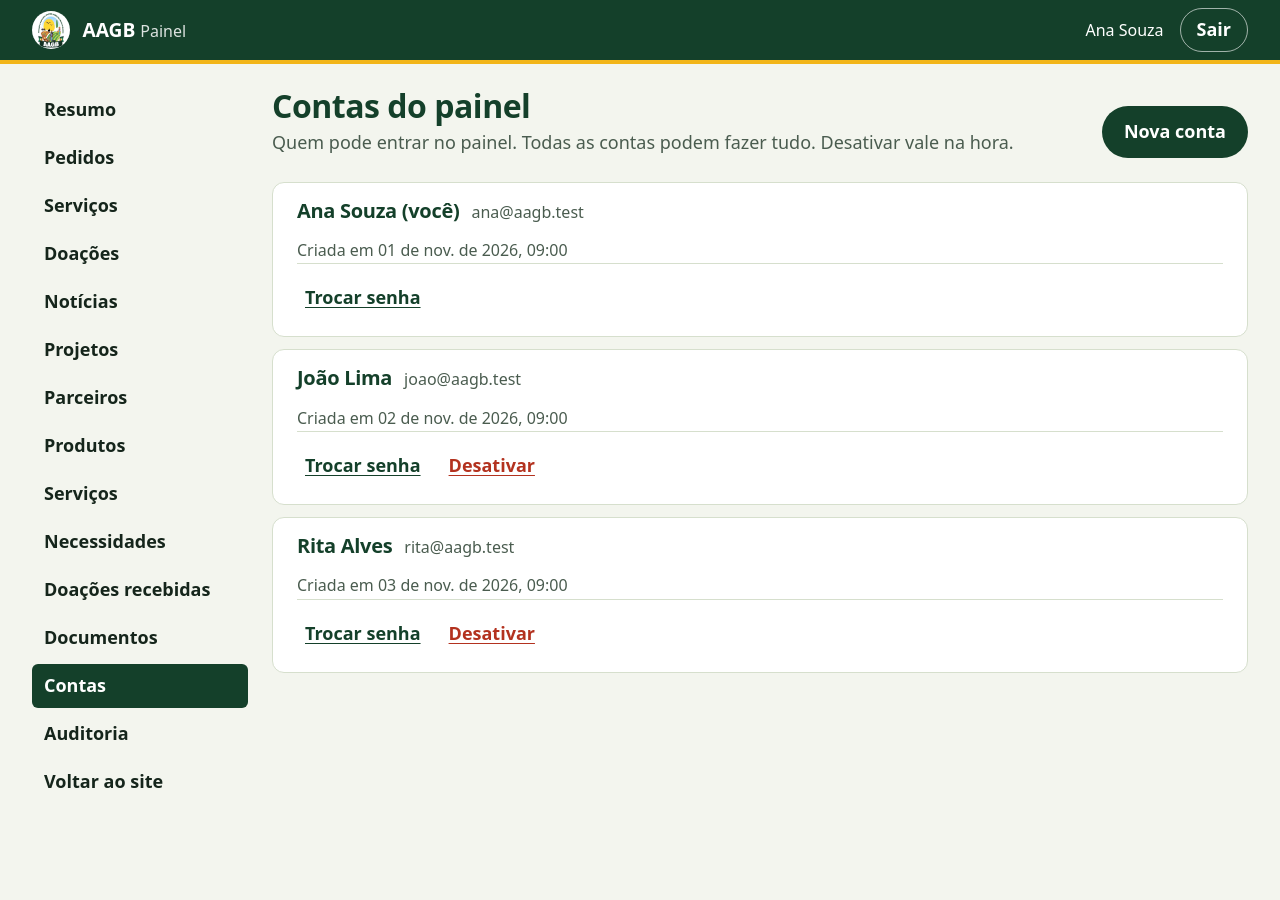
contas: confirmação de senha › depois de confirmar, a ação seguinte não pede a senha de novo
The image size is (1280, 900).
Click the button named "Desativar João Lima" at [492, 466], box [441, 444, 543, 488]
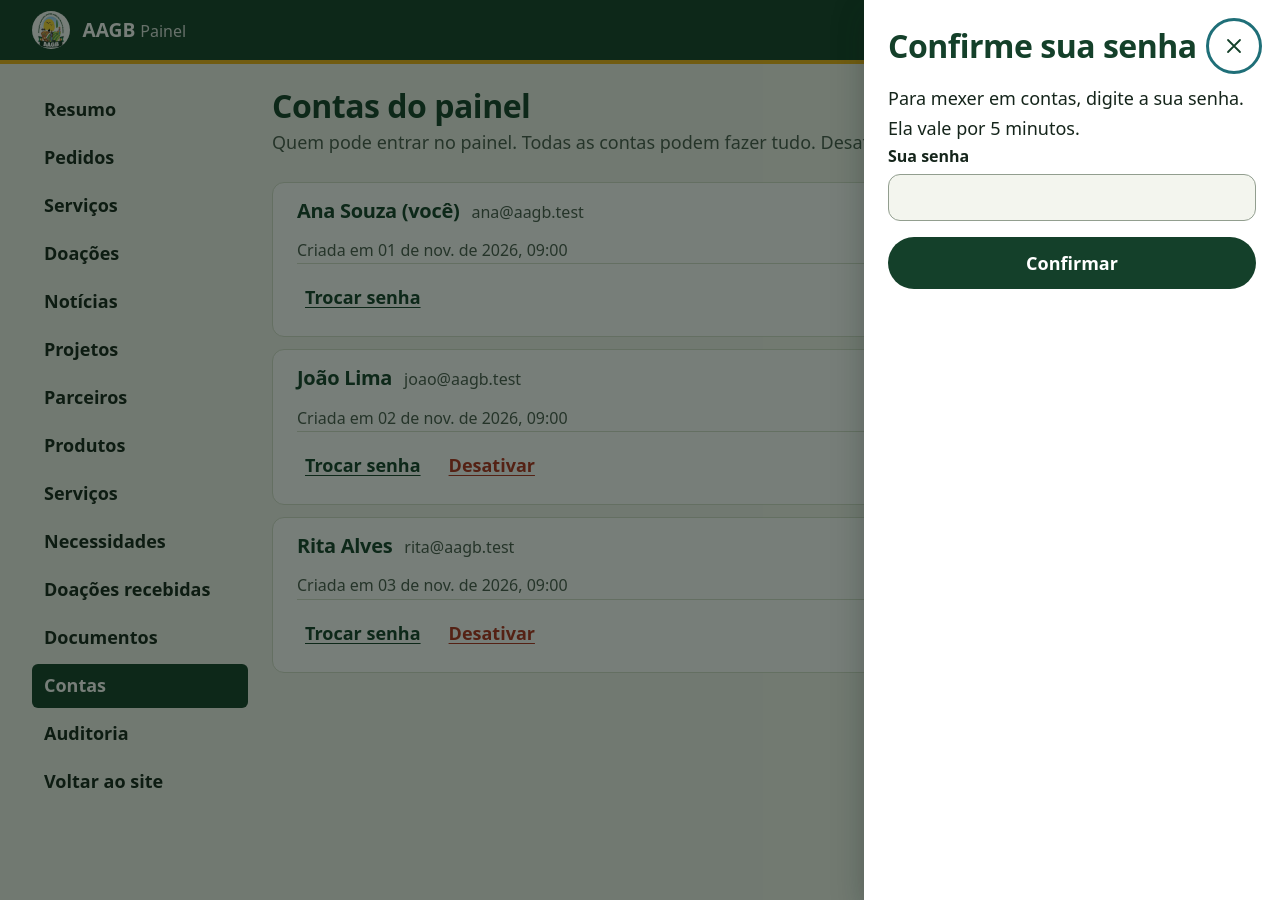
Type "senha-certa-123" into the password field labelled "Sua senha" at [1072, 198], box [888, 174, 1256, 221]
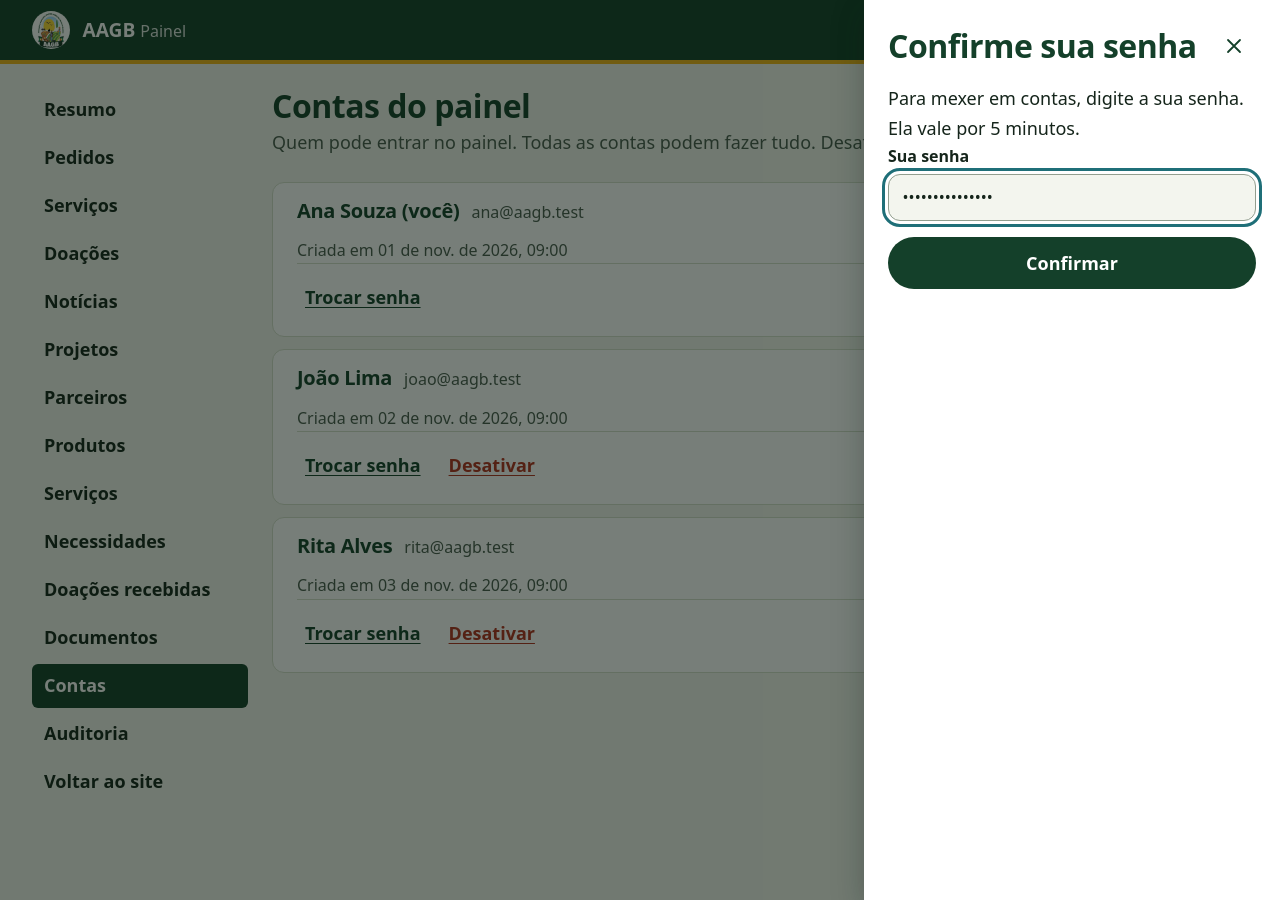
Click the button "Confirmar" at [1072, 263], box [888, 237, 1256, 289]
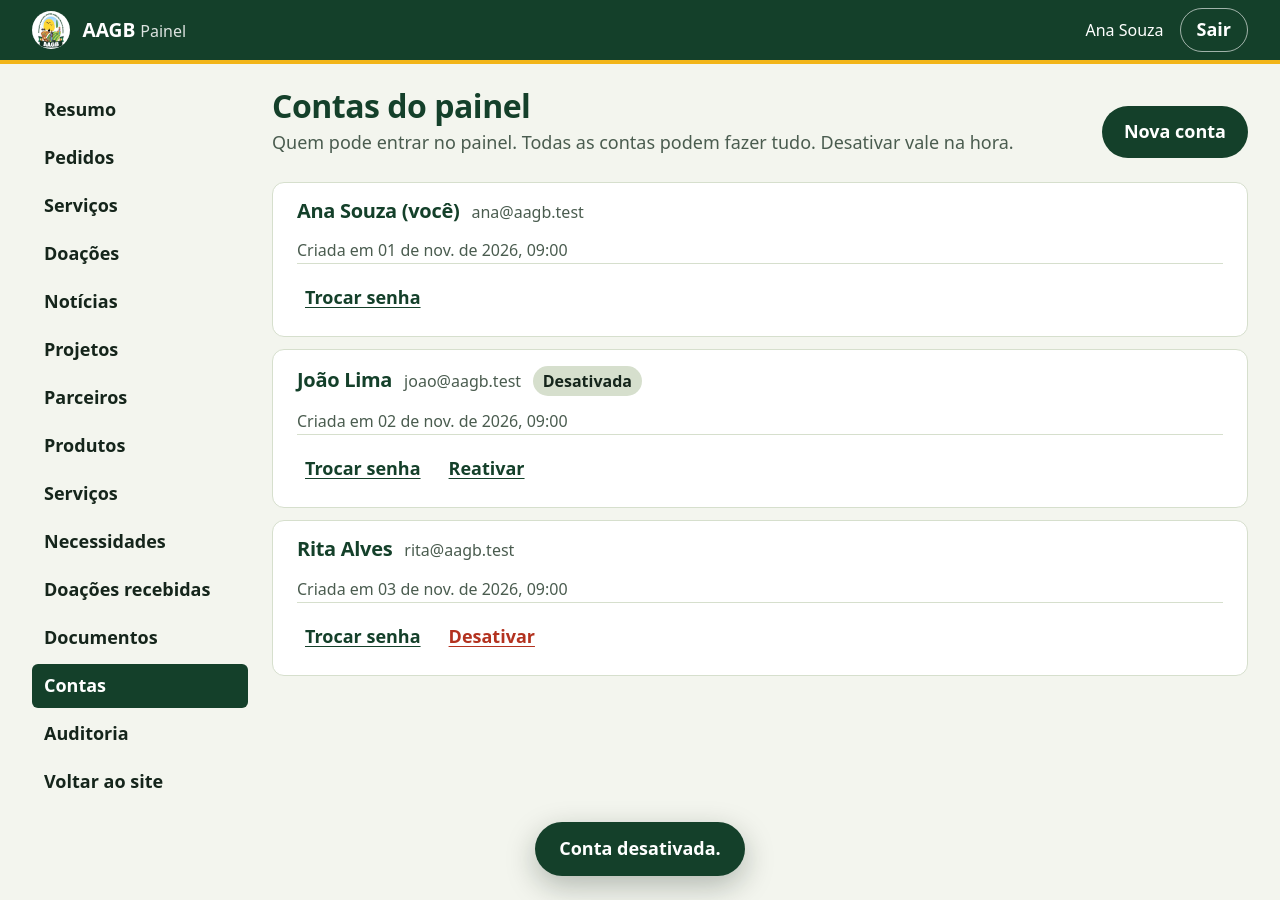
Now the text "Conta desativada." is shown, box [535, 822, 745, 876]
Click the button named "Reativar João Lima" at [487, 469], box [441, 447, 533, 491]
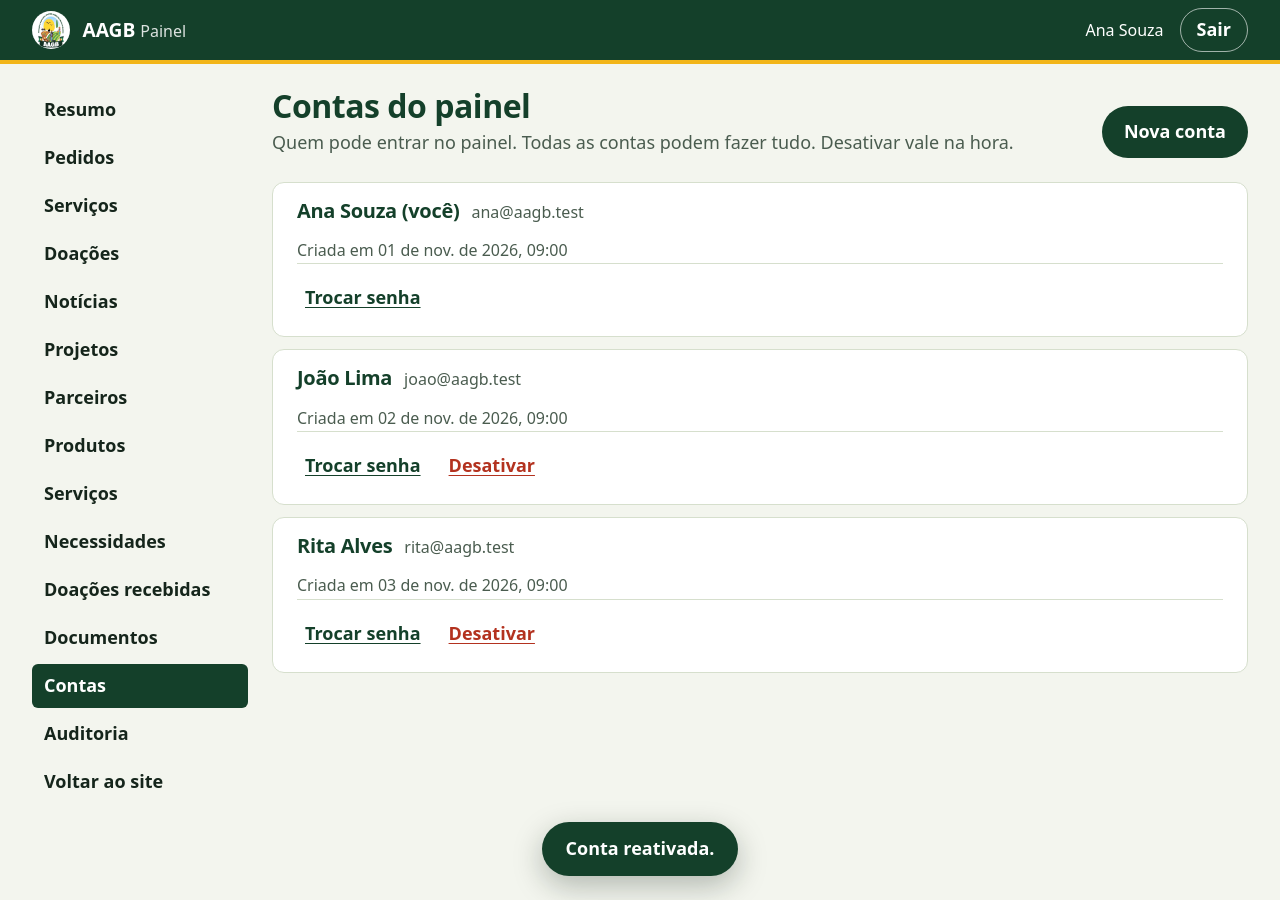
Expected: the heading "Confirme sua senha" is not shown
Now the text "Conta reativada." is shown, box [542, 822, 738, 876]
